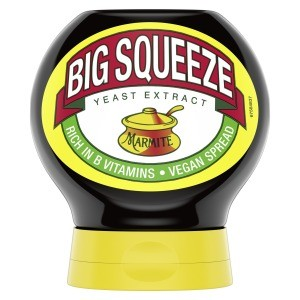yeast spread_brain food: (25, 19, 272, 199)
